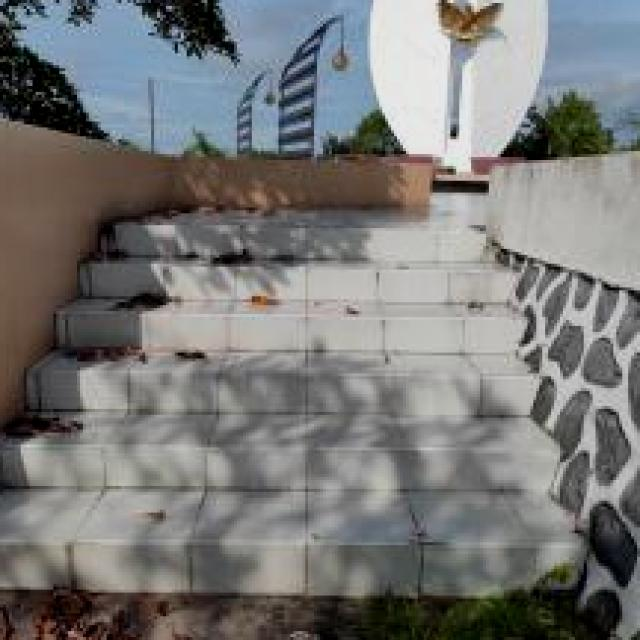upstair: (1, 197, 558, 609)
